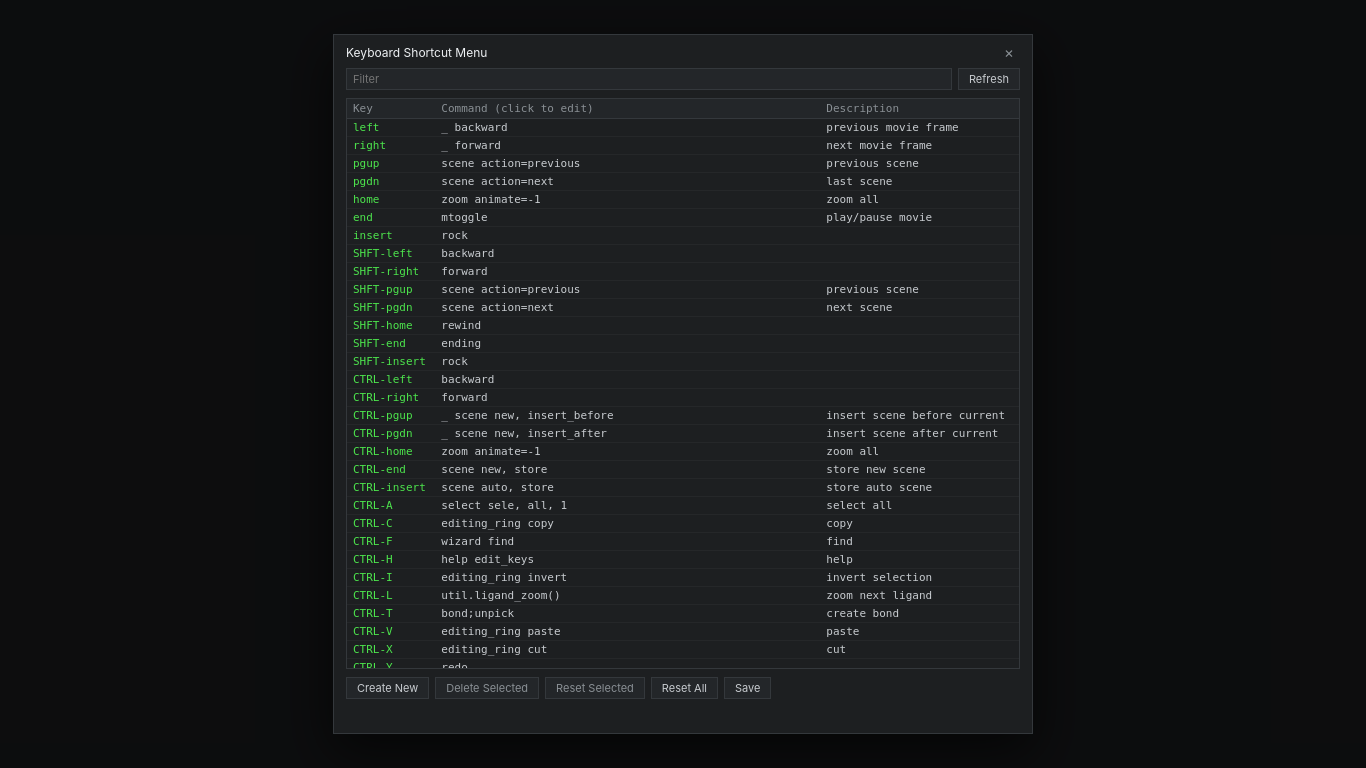
Test case: the Create-New key-capture field › shows PyMOL’s name for the chord, not the character typed
Click the button "Create New": point(388, 688) [346,677,429,699]
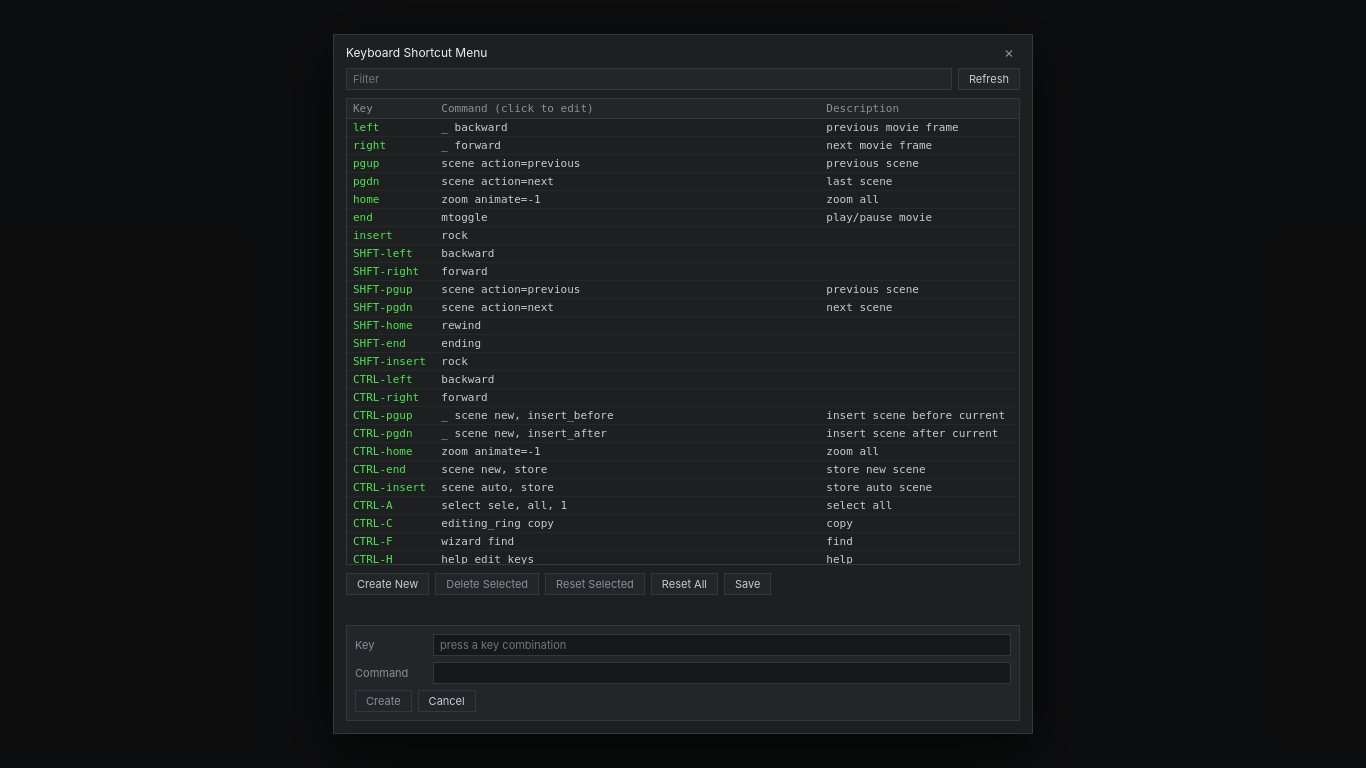
Press j in the field with test id "shortcut-capture", box [433,634,1011,656]
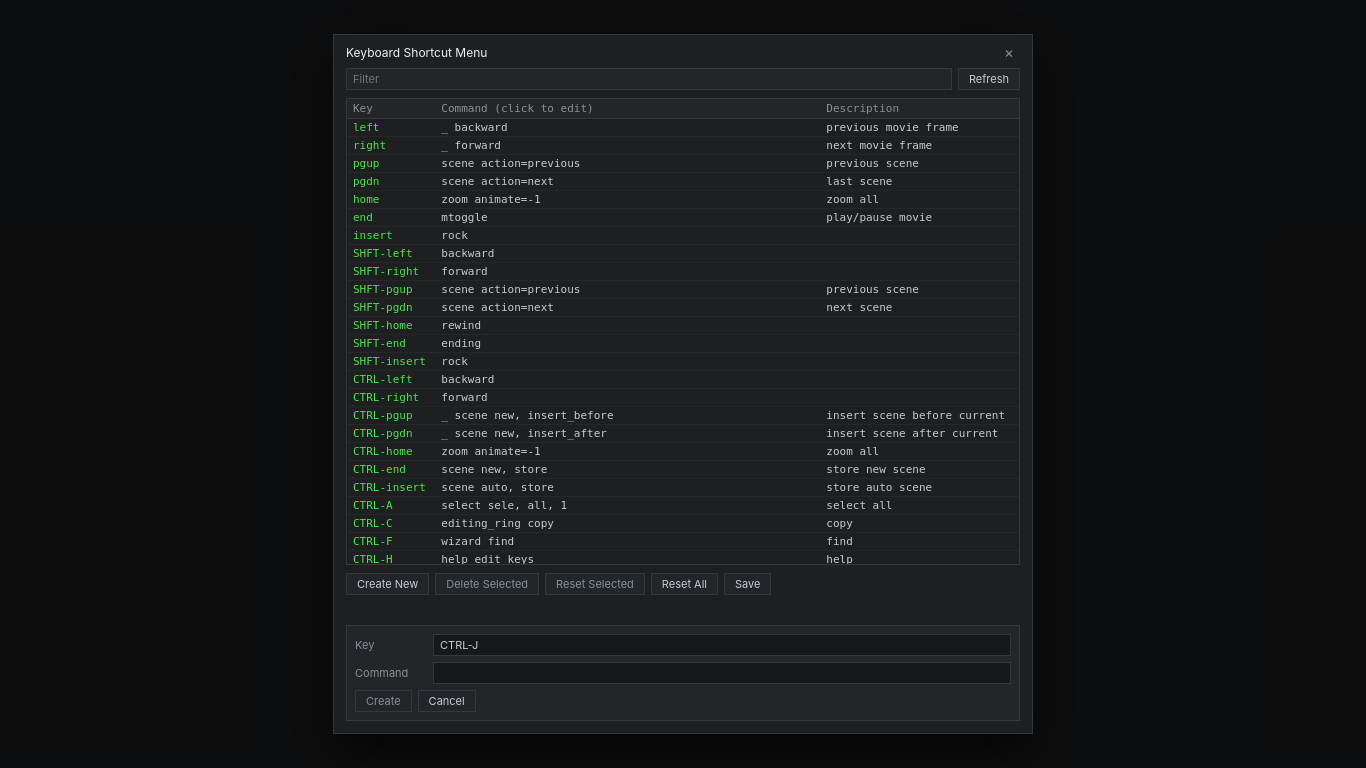
Result: the field with test id "shortcut-capture" holds "CTRL-J"
Press j in the field with test id "shortcut-capture", box [433,634,1011,656]
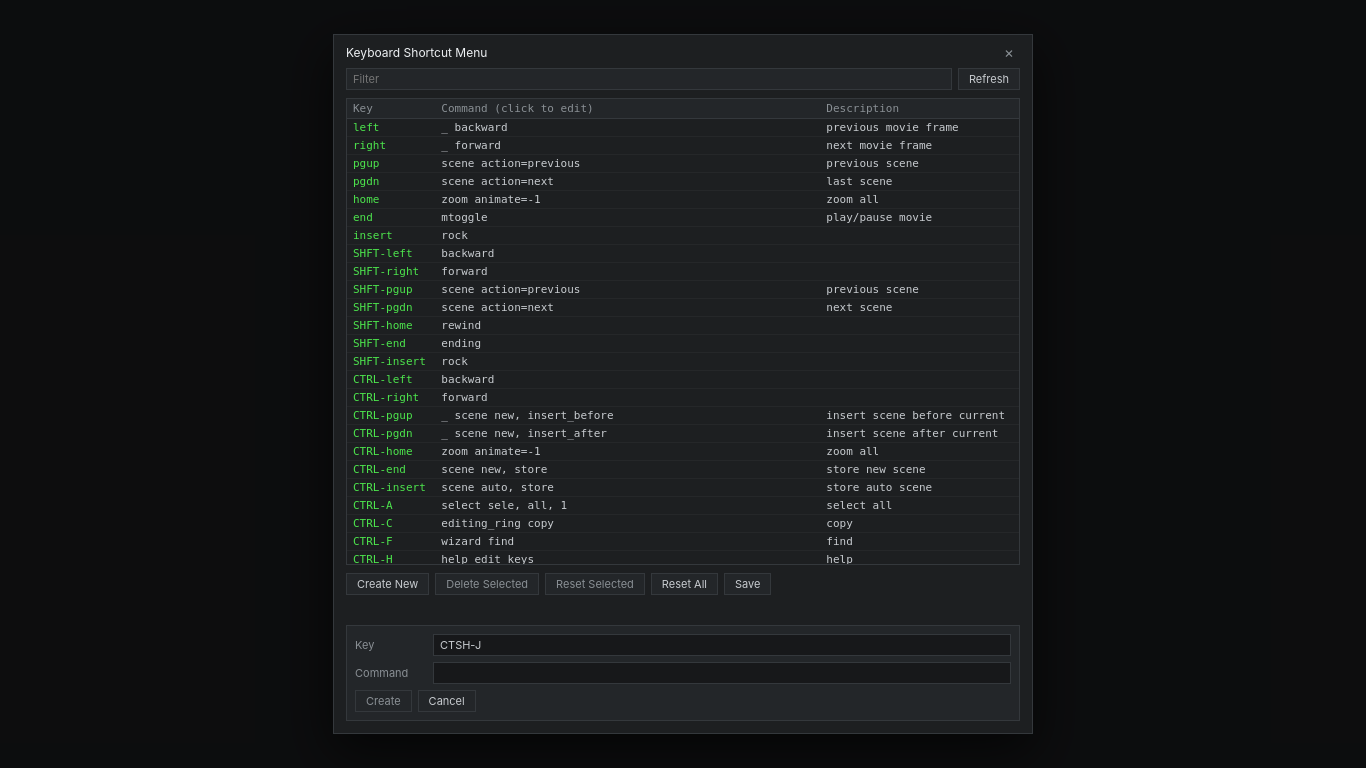
Result: the field with test id "shortcut-capture" holds "CTSH-J"
Press PageUp in the field with test id "shortcut-capture", box [433,634,1011,656]
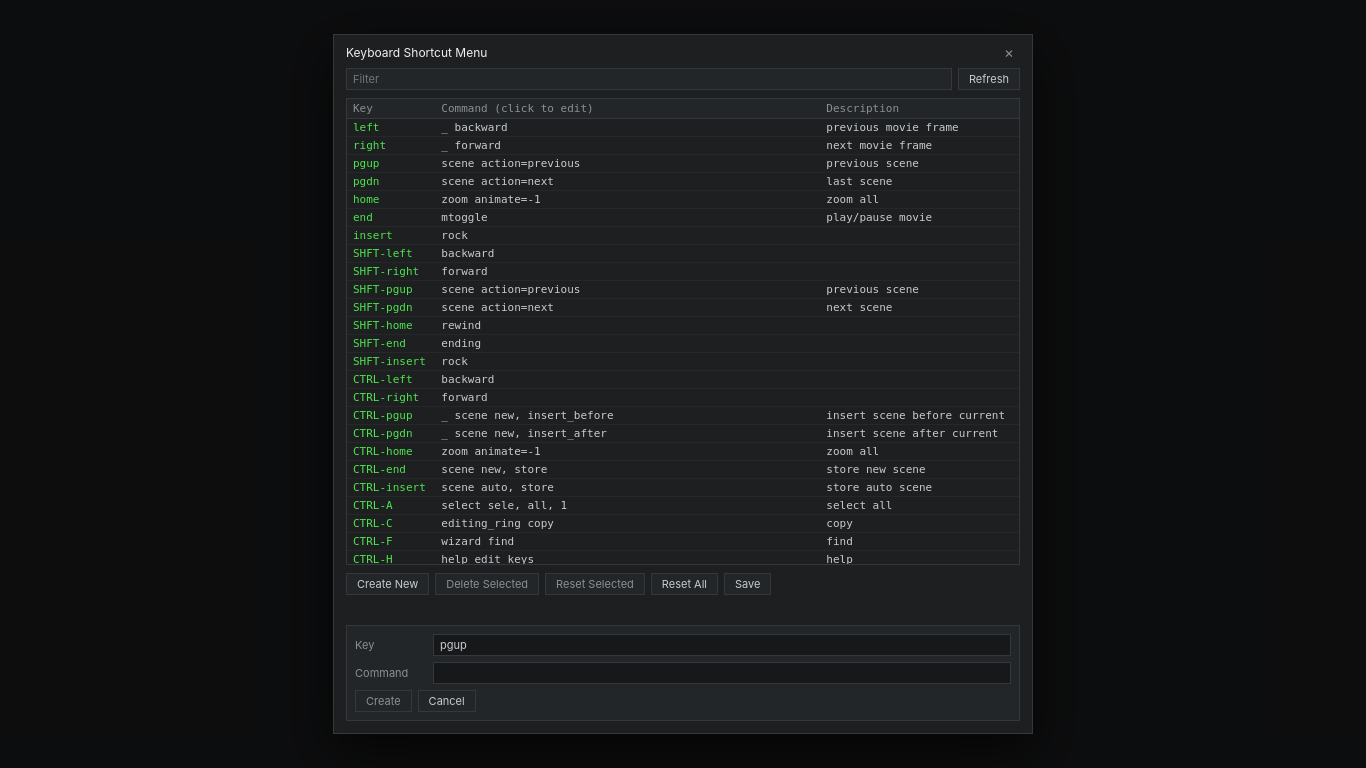
Result: the field with test id "shortcut-capture" holds "pgup" at [433,634,1011,656]
